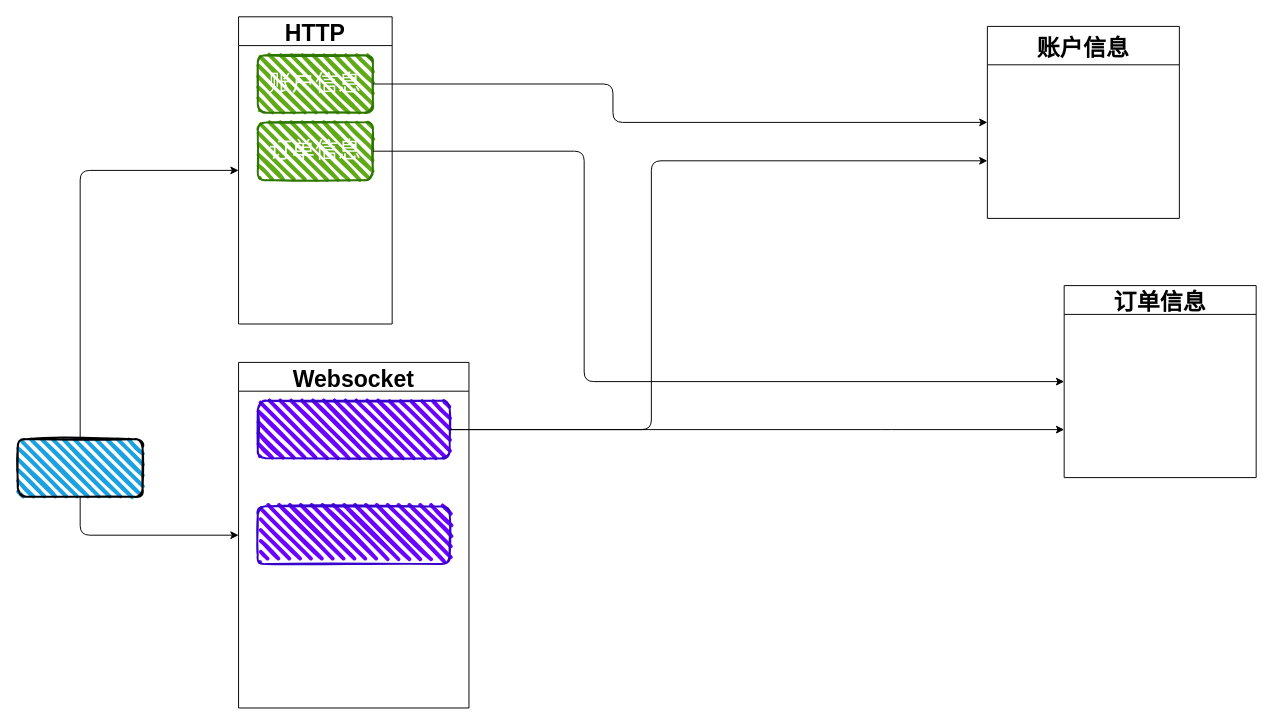
This 1273x725 diagram has some shape labels left out. Each missing label, with the centre of its shape:
交易对深度信息: the point at 353,534
启动: the point at 79,467
账户信息推送: the point at 353,429
